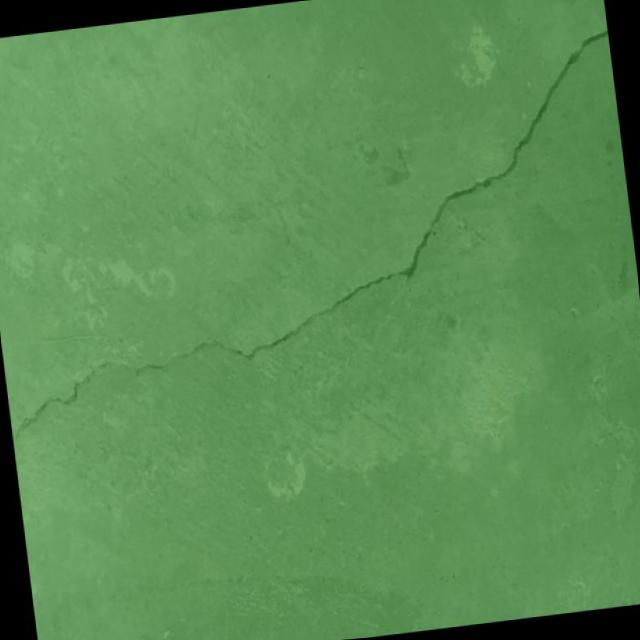crack: (97, 26, 640, 377), (7, 374, 96, 439)
